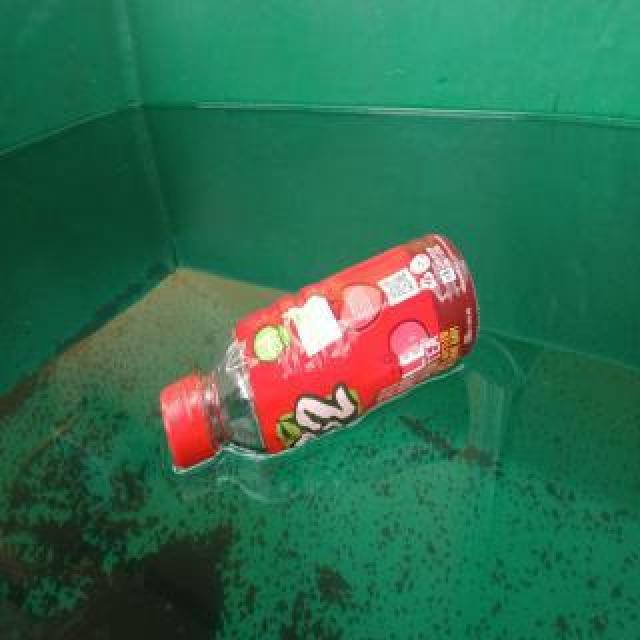bottle: (155, 229, 481, 477)
